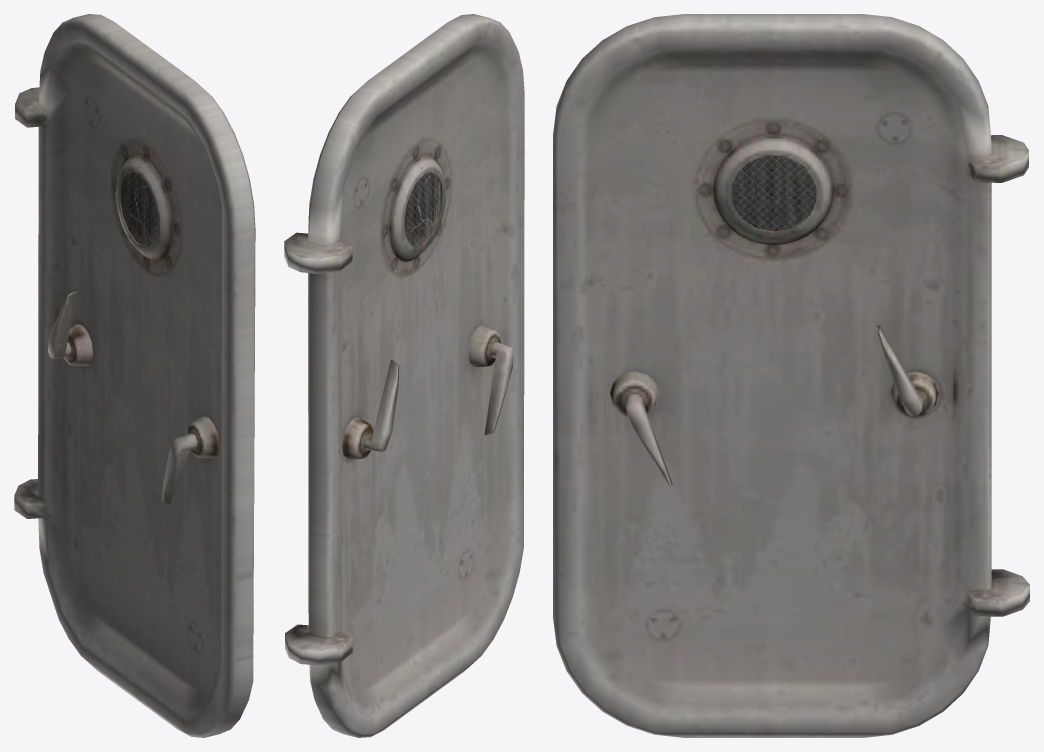
Rendered from door.hinged.cargo_ship.glb.
3 renders of one model, left to right at view 1: azimuth 30°, elevation 25°; view 2: azimuth 150°, elevation 25°; view 3: azimuth 270°, elevation 25°, orthographic. The views are drawn at different scales.
Parts seen in each view (by area): view 1: ship_door_LOD0; view 2: ship_door_LOD0; view 3: ship_door_LOD0.
Part boxes in pixels (x1,y1,x2,y2): ship_door_LOD0: (14,14,255,737); ship_door_LOD0: (284,14,524,737); ship_door_LOD0: (553,14,1029,737).
Bounding box in the file's own units: 0.2342 × 2.16 × 1.3.
2 materials, 2 textured.
